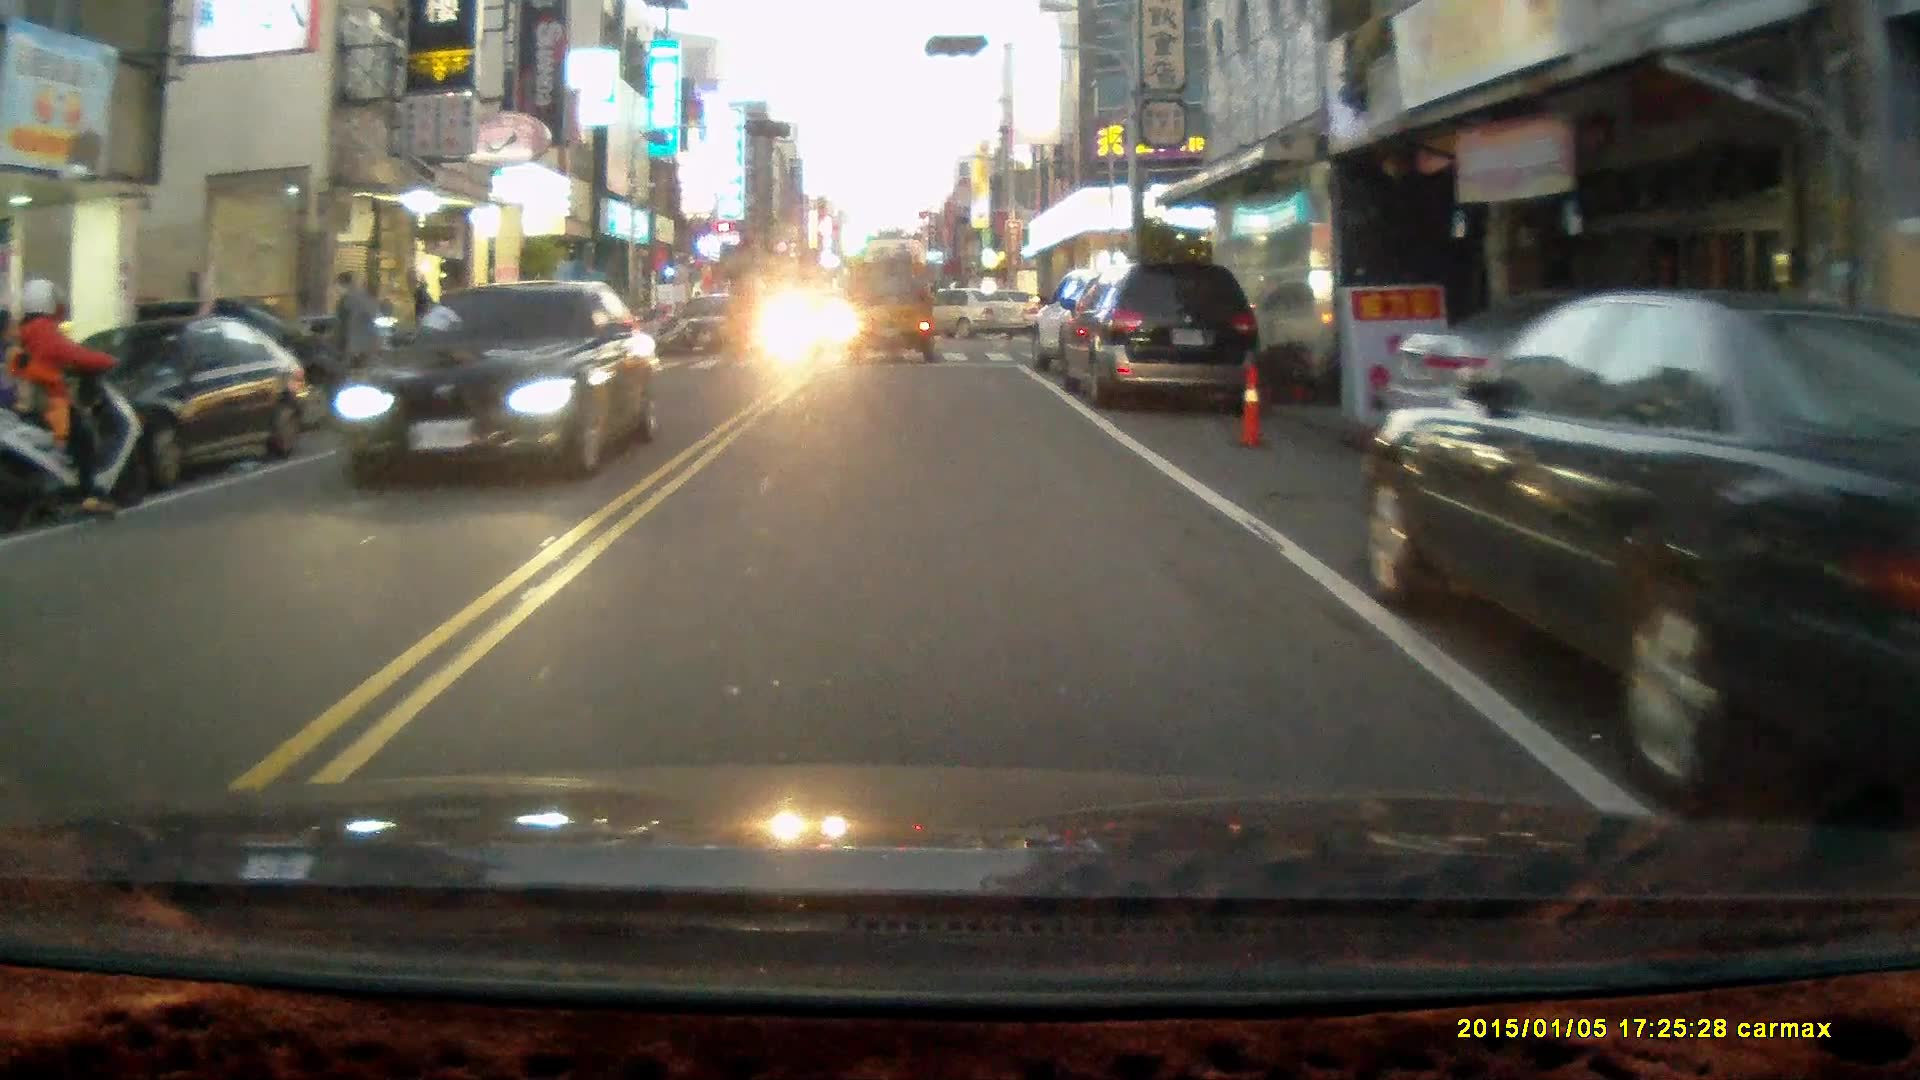pedestrian: (326, 267, 377, 419)
rider: (0, 273, 156, 531)
vehicle: (1366, 290, 1920, 817), (1375, 290, 1783, 487), (335, 278, 662, 495), (1053, 255, 1262, 411), (1028, 268, 1210, 385), (844, 257, 937, 362), (885, 285, 1026, 342), (672, 298, 753, 357)
